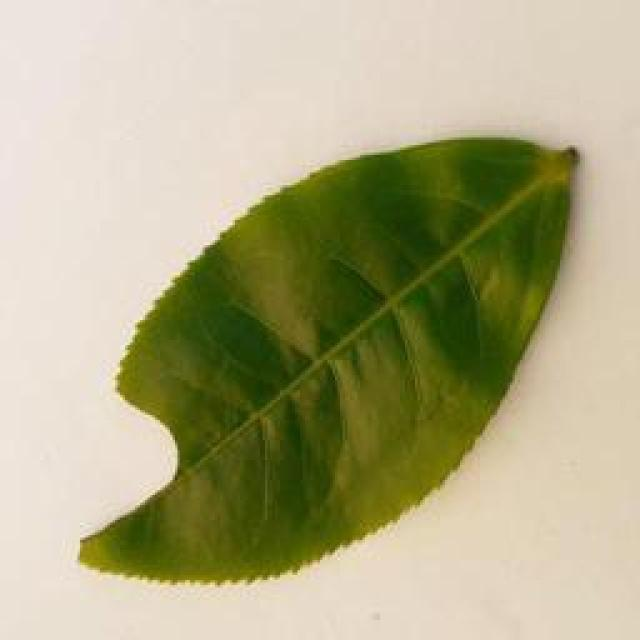Healthy: (78, 135, 586, 592)
